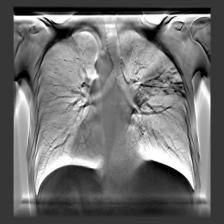tuberculosis: (27, 18, 199, 203)
